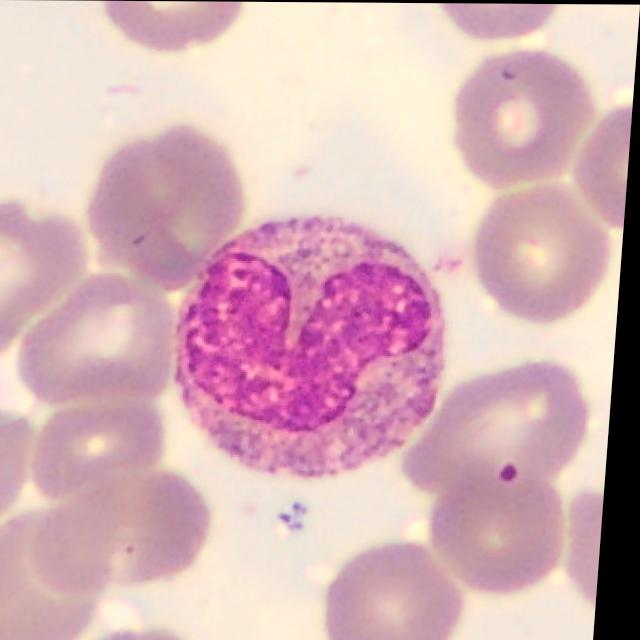Bastonete: (176, 213, 454, 477)
